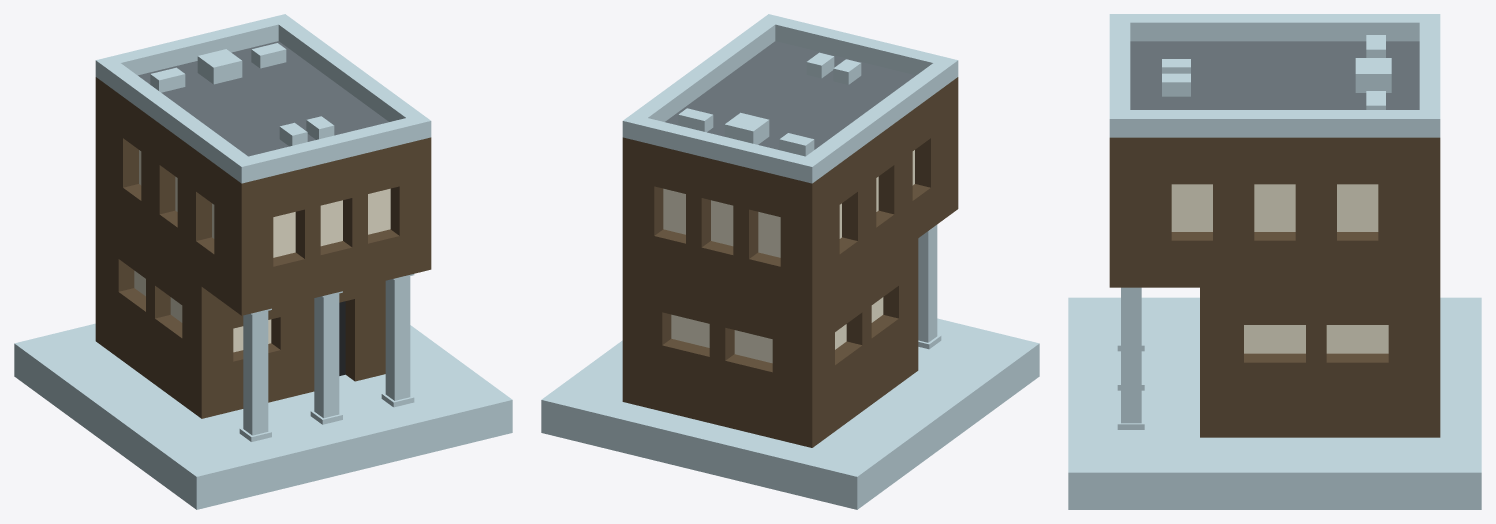
File: Building_7_Base_Extra (Brown).obj
3 renders of one model, left to right at view 1: azimuth 30°, elevation 25°; view 2: azimuth 150°, elevation 25°; view 3: azimuth 270°, elevation 25°, orthographic. The views are drawn at different scales.
Parts seen in each view (by area): view 1: Building_7_Base_Extra_(Brown); view 2: Building_7_Base_Extra_(Brown); view 3: Building_7_Base_Extra_(Brown).
Boxes of the visible parts, <box> form: Building_7_Base_Extra_(Brown): <box>14,14,512,509</box>; Building_7_Base_Extra_(Brown): <box>541,14,1039,509</box>; Building_7_Base_Extra_(Brown): <box>1068,14,1481,509</box>.
Bounding box in the file's own units: 2 × 1.9 × 2.
